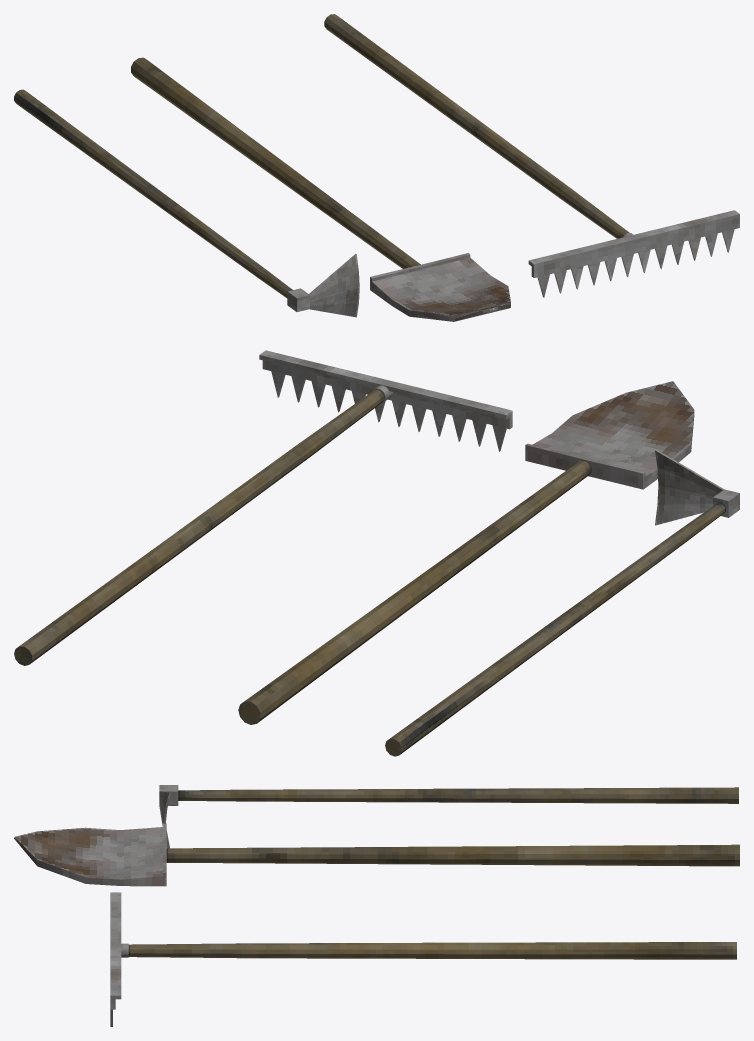
Rendered from tools.glb.
The picture shows the model from 3 angles, top to bottom: view 1: azimuth 30°, elevation 25°; view 2: azimuth 150°, elevation 25°; view 3: azimuth 270°, elevation 25°; orthographic projection. The views are drawn at different scales.
Bounding box in the file's own units: 1.15 × 0.1643 × 1.67.
Materials: 1 (1 with a texture image).
